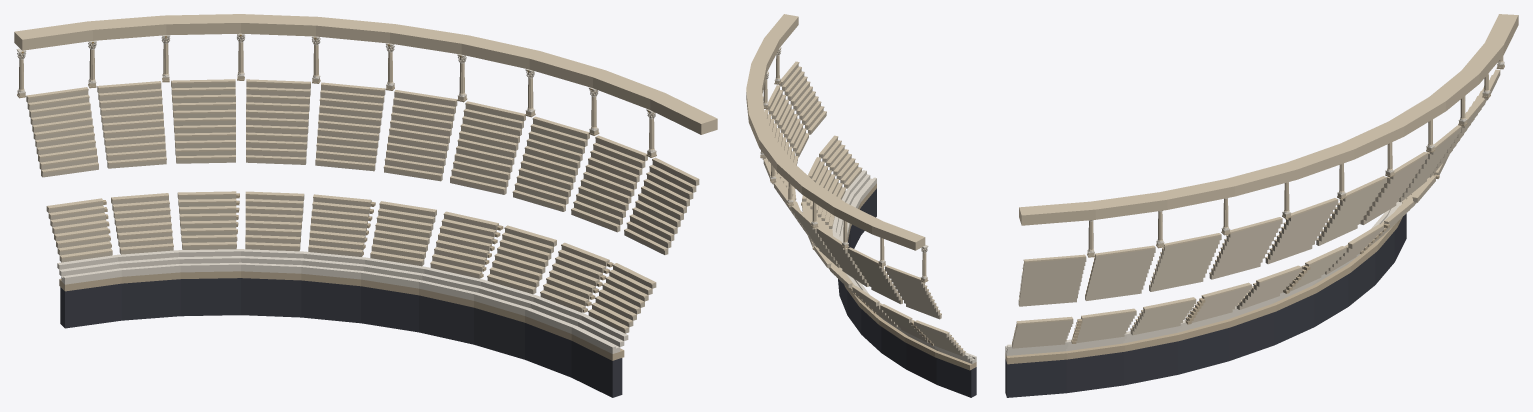
File: COL_CaveaSeating_Q4.glb
The picture shows the model from 3 angles, left to right: view 1: azimuth 30°, elevation 25°; view 2: azimuth 150°, elevation 25°; view 3: azimuth 270°, elevation 25°; orthographic projection. The views are drawn at different scales.
Visible parts, largest first — view 1: COL_CaveaSeating_Q4; view 2: COL_CaveaSeating_Q4; view 3: COL_CaveaSeating_Q4.
Boxes of the visible parts, box(x1,y1,x2,y2) form: COL_CaveaSeating_Q4: box(14, 14, 717, 397); COL_CaveaSeating_Q4: box(746, 14, 976, 397); COL_CaveaSeating_Q4: box(1005, 14, 1518, 397).
Size of the model in its own units: 113 by 58.2 by 118.
